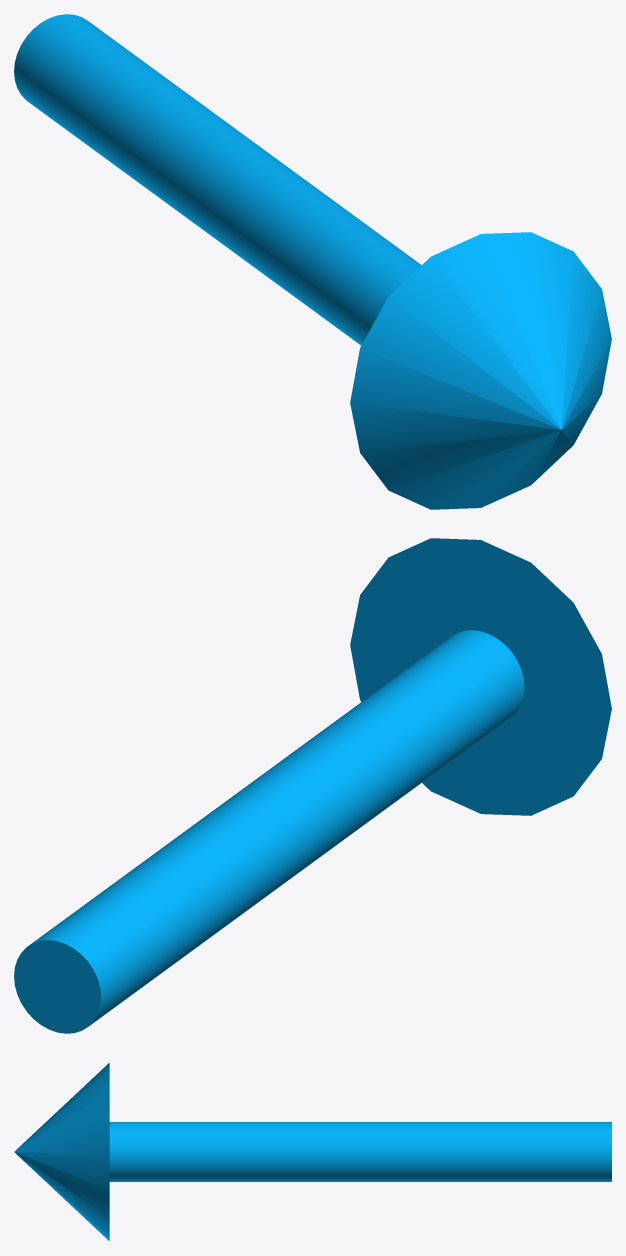
Rendered from vectorb.glb.
3 views of the same model, one above another, from view 1: azimuth 30°, elevation 25°; view 2: azimuth 150°, elevation 25°; view 3: azimuth 270°, elevation 25° (orthographic). The views are drawn at different scales.
Visible parts, largest first — view 1: Cylinder (×2); view 2: Cylinder (×2); view 3: Cylinder (×2).
Part boxes in pixels (x1,y1,x2,y2): Cylinder (×2): [14, 14, 611, 509]; Cylinder (×2): [14, 538, 611, 1033]; Cylinder (×2): [14, 1063, 611, 1240].
Size of the model in its own units: 0.3 by 0.3 by 1.
